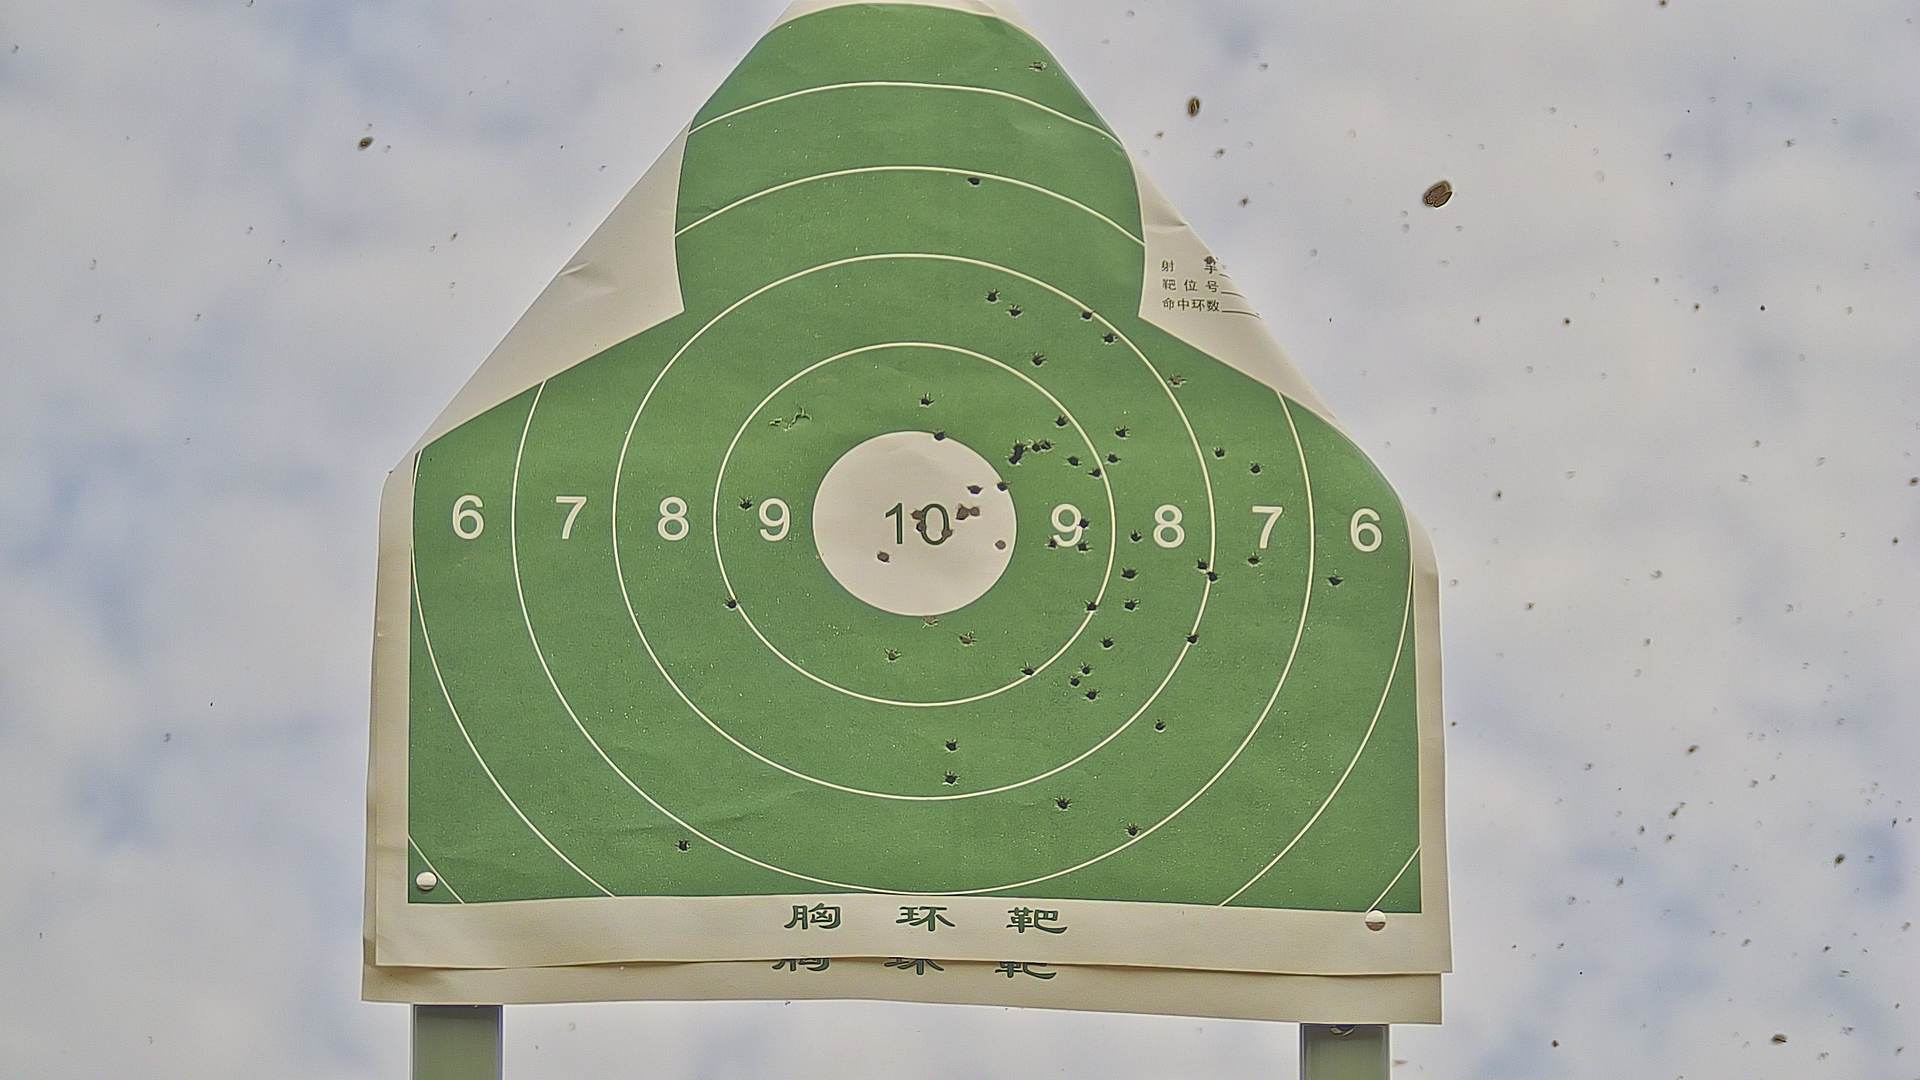hole: (1325, 567, 1349, 596), (928, 422, 952, 447), (1048, 790, 1073, 814), (940, 764, 963, 790), (735, 491, 760, 512), (940, 735, 965, 756), (914, 392, 940, 411), (1117, 820, 1145, 839), (1200, 564, 1221, 588), (1029, 55, 1048, 80), (1098, 328, 1121, 349), (1163, 371, 1185, 392), (882, 645, 905, 666), (1118, 563, 1141, 584), (1120, 593, 1139, 617), (964, 170, 984, 193), (918, 612, 938, 634), (1098, 626, 1116, 651), (1004, 301, 1025, 320), (1027, 349, 1048, 369), (1112, 421, 1133, 440), (1153, 713, 1172, 735), (1005, 450, 1022, 473), (1080, 595, 1100, 615), (1183, 626, 1204, 645), (957, 626, 975, 649), (1080, 687, 1102, 704), (1073, 512, 1097, 527), (1246, 549, 1262, 572), (1244, 458, 1262, 477), (1211, 440, 1228, 462), (1126, 527, 1143, 549), (1101, 448, 1124, 464), (963, 481, 985, 497), (1021, 659, 1036, 682), (1088, 463, 1102, 487), (982, 286, 1001, 305), (1191, 553, 1208, 572), (1044, 534, 1062, 553), (1073, 535, 1091, 554), (674, 833, 692, 851), (721, 593, 741, 609), (953, 502, 968, 524), (1010, 440, 1027, 458), (1079, 305, 1093, 324), (873, 549, 893, 563), (1067, 673, 1084, 688), (1029, 435, 1040, 456), (1079, 661, 1095, 676), (1052, 411, 1067, 429), (939, 524, 953, 541), (1065, 454, 1080, 469), (913, 520, 928, 534), (911, 506, 927, 520), (996, 479, 1013, 491), (971, 502, 982, 520), (996, 535, 1007, 551), (1040, 436, 1054, 450)
kernel: (913, 524, 923, 530)
target: (411, 3, 1419, 911)
ten: (808, 419, 1021, 618)
